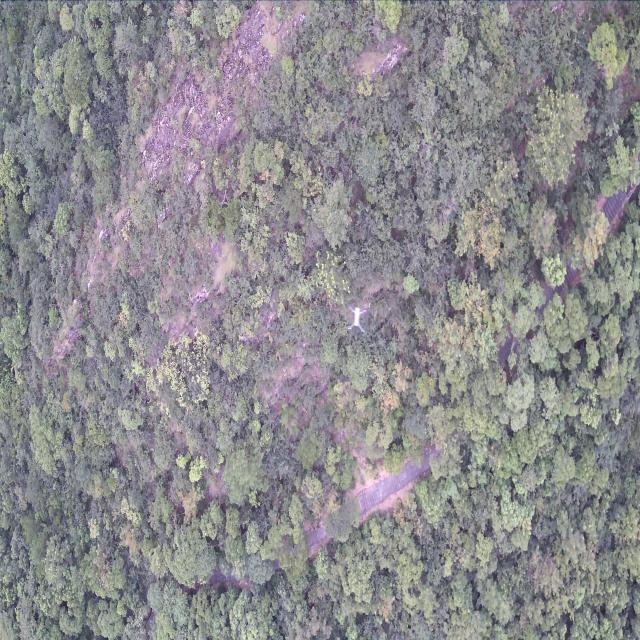UAV: (348, 306, 367, 332)
